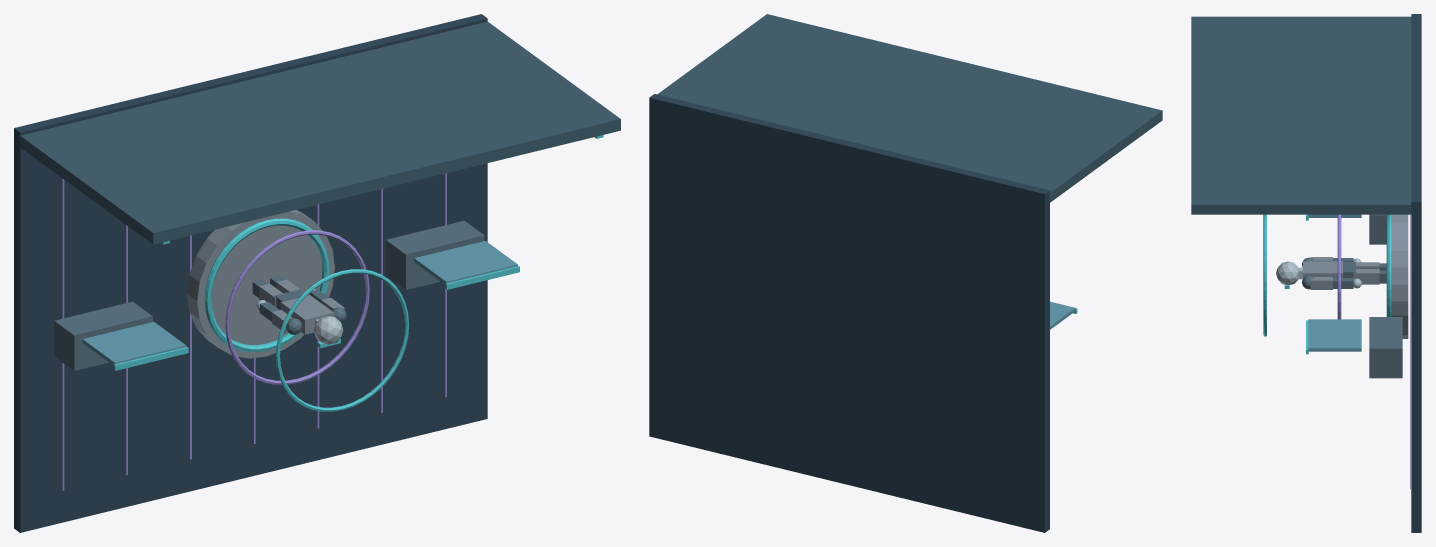
File: 01_Futuristic_Hologram_Lab.glb
The picture shows the model from 3 angles, left to right: view 1: azimuth 30°, elevation 25°; view 2: azimuth 150°, elevation 25°; view 3: azimuth 270°, elevation 25°; orthographic projection. The views are drawn at different scales.
Visible parts, largest first — view 1: Lab_Floor, Back_Wall, Avatar_Plinth, Side_Desk_1, Side_Desk_0, Holo_Screen_0, Holo_Screen_1, Platform_Cyan_Ring, Hologram_Ring_Low, Hologram_Ring_High, JARVIS_Avatar_torso, Floor_Line_-4.5; view 2: Lab_Floor, Back_Wall; view 3: Back_Wall, Lab_Floor, Side_Desk_1, Avatar_Plinth, Holo_Screen_1, Platform_Cyan_Ring, JARVIS_Avatar_torso, Side_Desk_0, Hologram_Ring_Low, Hologram_Ring_High, JARVIS_Avatar_head, JARVIS_Avatar_thigh_R (+1 smaller).
Part boxes in pixels (x1,y1,x2,y2): Lab_Floor: [14, 14, 487, 532]; Back_Wall: [18, 21, 620, 244]; Avatar_Plinth: [187, 210, 334, 358]; Side_Desk_1: [385, 220, 484, 289]; Side_Desk_0: [54, 301, 152, 370]; Holo_Screen_0: [82, 321, 186, 365]; Holo_Screen_1: [414, 241, 517, 284]; Platform_Cyan_Ring: [204, 218, 329, 351]; Hologram_Ring_Low: [225, 230, 369, 384]; Hologram_Ring_High: [275, 269, 408, 411]; JARVIS_Avatar_torso: [280, 295, 334, 334]; Floor_Line_-4.5: [62, 178, 64, 490]; Lab_Floor: [649, 94, 1049, 532]; Back_Wall: [657, 14, 1162, 202]; Back_Wall: [1191, 16, 1413, 214]; Lab_Floor: [1411, 14, 1421, 532]; Side_Desk_1: [1369, 317, 1402, 378]; Avatar_Plinth: [1391, 214, 1408, 338]; Holo_Screen_1: [1308, 319, 1361, 351]; Platform_Cyan_Ring: [1386, 214, 1391, 316]; JARVIS_Avatar_torso: [1303, 261, 1343, 278]; Side_Desk_0: [1369, 214, 1387, 244]; Hologram_Ring_Low: [1337, 214, 1341, 319]; Hologram_Ring_High: [1263, 214, 1266, 336]; JARVIS_Avatar_head: [1276, 261, 1298, 284]; JARVIS_Avatar_thigh_R: [1353, 269, 1379, 284].
Size of the model in its own units: 11 by 9 by 5.67.
